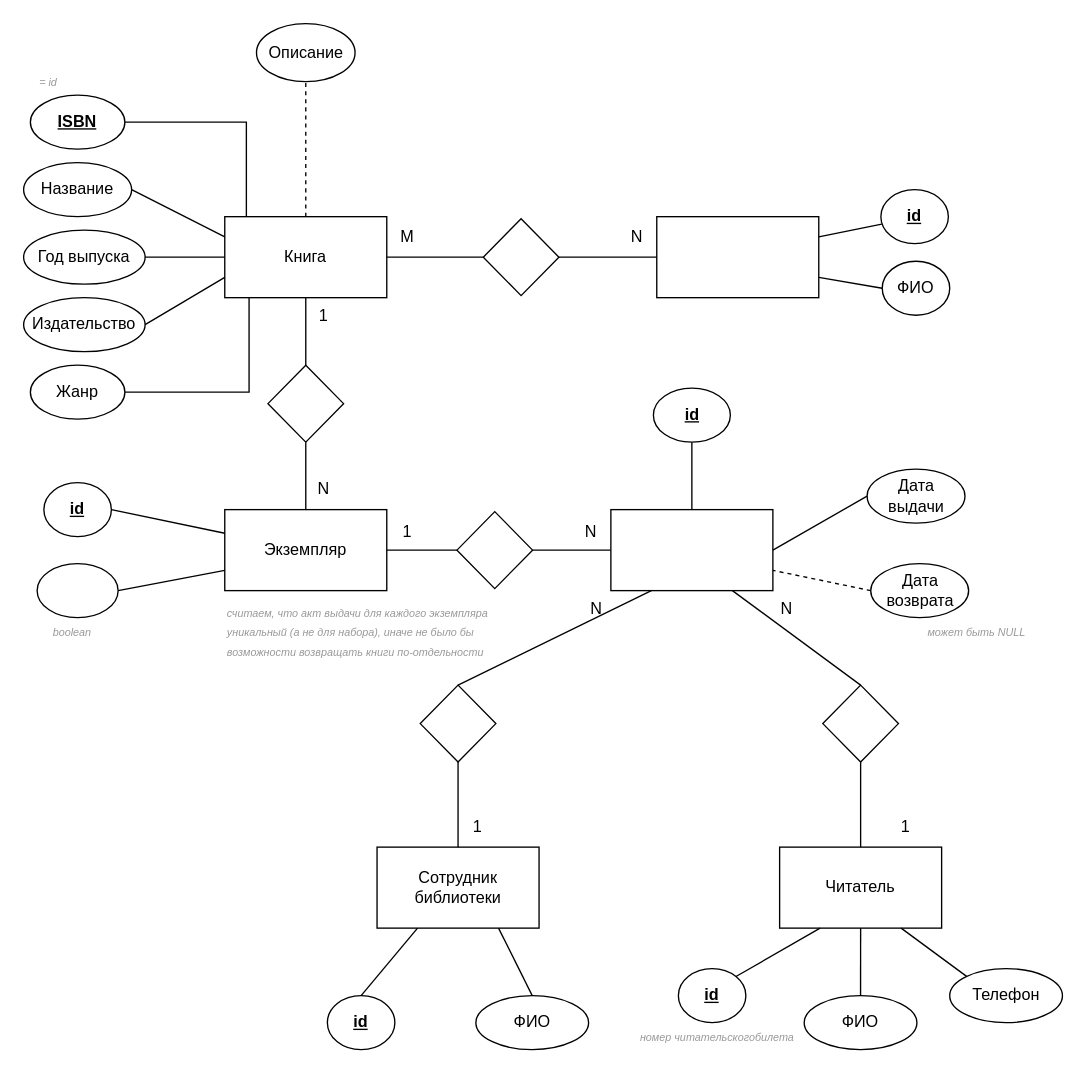
The diagram is 1087 pixels wide and 1087 high, and some of its shapes have lost their labels. The shapes that lost their labels are listed below. From the top down, each one's box as (x1, y1, x2, y2) in pixels, then its label:
(482, 217, 559, 296): написана
(655, 215, 819, 298): Автор
(267, 364, 344, 442): имеется
(456, 510, 533, 589): выдается
(610, 508, 773, 591): Акт выдачи
(36, 562, 118, 618): status
(419, 684, 496, 762): выдает
(821, 684, 898, 762): получает
